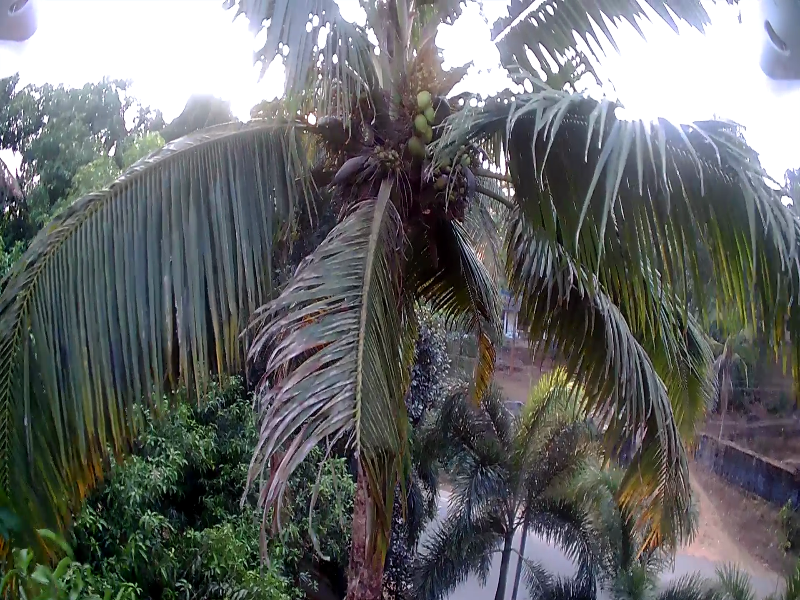coconut: (402, 136, 422, 162), (411, 118, 428, 134), (417, 104, 435, 118), (416, 90, 429, 104), (437, 173, 448, 187), (461, 151, 471, 163)
